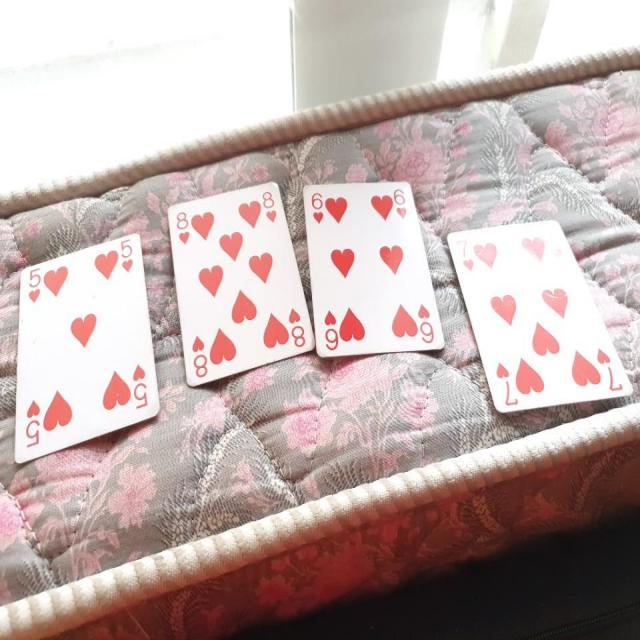5 Hearts: (4, 233, 163, 476)
6 Hearts: (296, 172, 448, 361)
7 Hearts: (441, 206, 638, 419)
8 Hearts: (151, 174, 317, 394)
